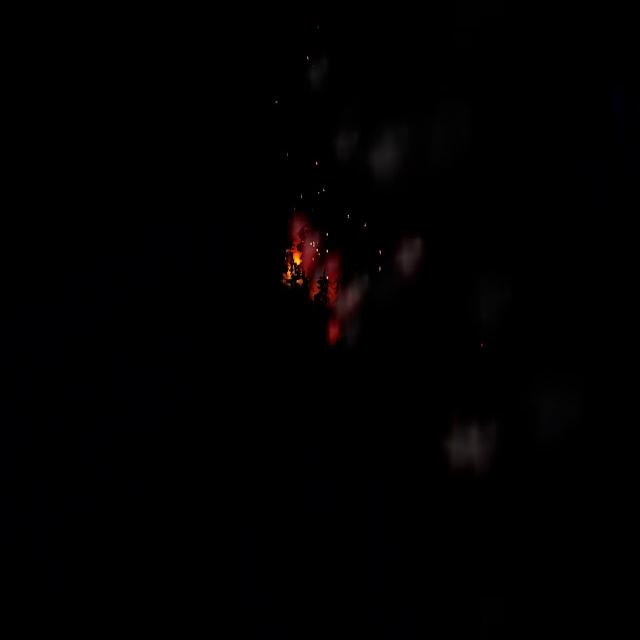fire: (283, 250, 303, 288)
smoke: (294, 214, 421, 347), (332, 121, 404, 182), (444, 422, 495, 474)
